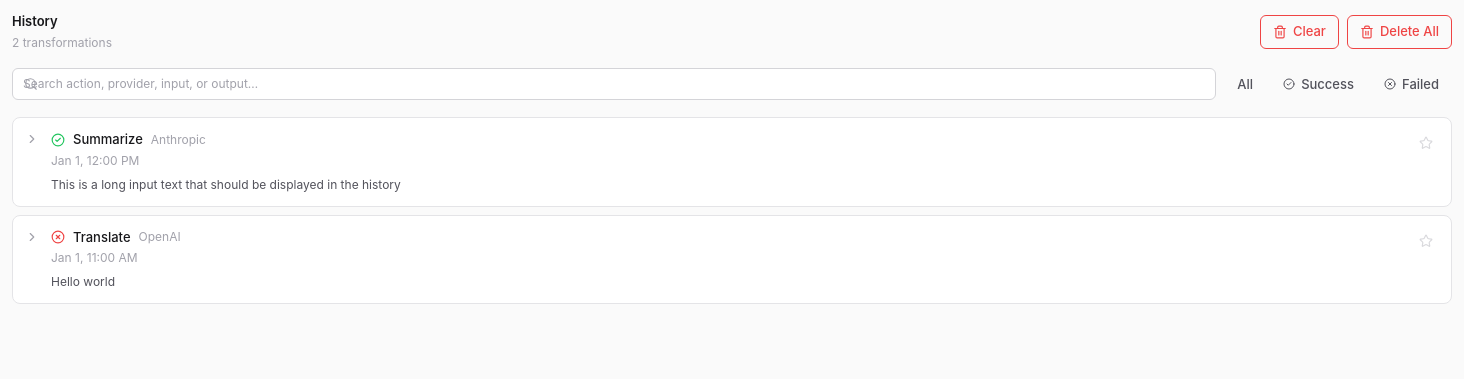
Test case: HistoryList › shows cleared message when no starred entries are preserved
Check: the text "Summarize" is shown, box [73,130,143,150]
Click the button "Clear" at (1299, 32), box [1260,15,1339,48]
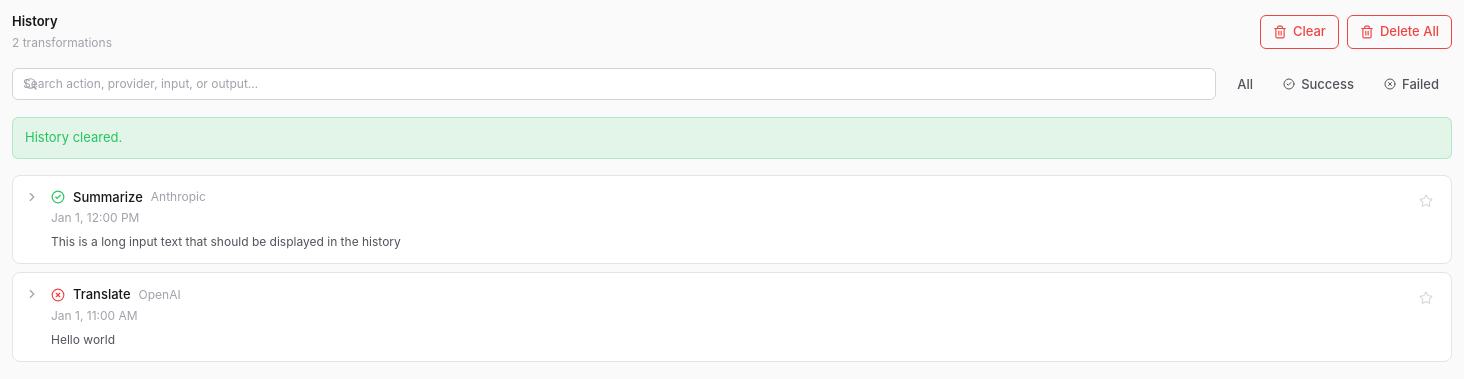
Check: the text "History cleared." is shown, box [12,117,1452,158]
